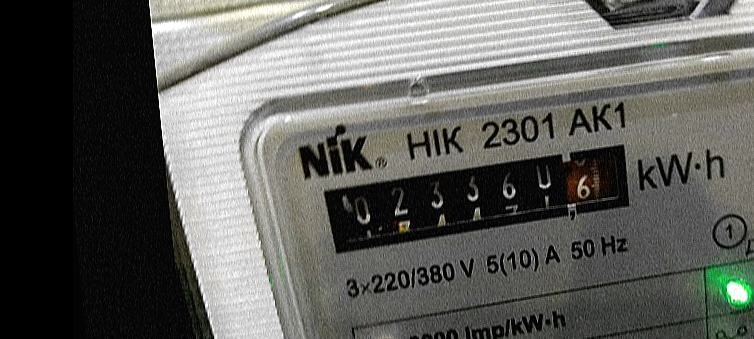0: (350, 191, 376, 227), (531, 159, 556, 192)
2: (389, 182, 412, 217)
3: (462, 168, 484, 203), (425, 178, 446, 210)
6: (497, 166, 521, 201), (572, 168, 596, 203)
screen: (306, 133, 651, 261)
